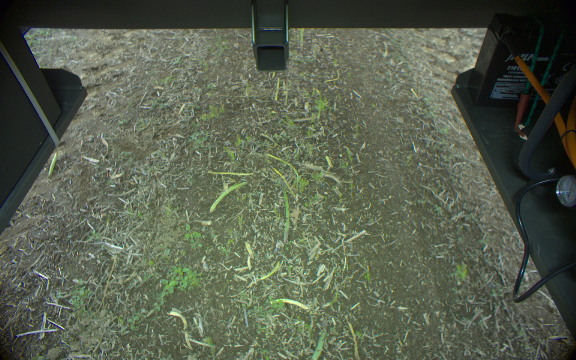aspa: (262, 151, 303, 181), (210, 182, 249, 213), (310, 316, 329, 360), (281, 187, 291, 246), (268, 296, 307, 310), (206, 167, 254, 177), (297, 28, 306, 56)
